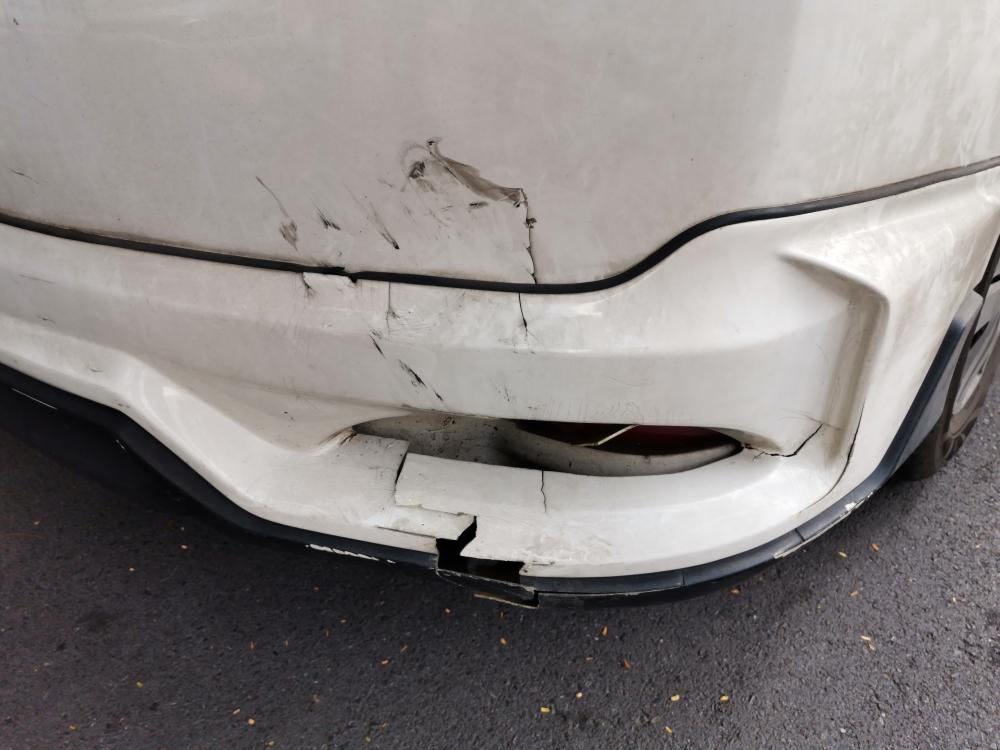crack: (375, 442, 684, 611), (797, 397, 865, 514), (744, 423, 824, 463), (522, 202, 540, 283), (517, 293, 542, 346), (385, 282, 393, 337), (299, 270, 314, 298), (539, 472, 547, 519)
scratch: (247, 133, 526, 264)
